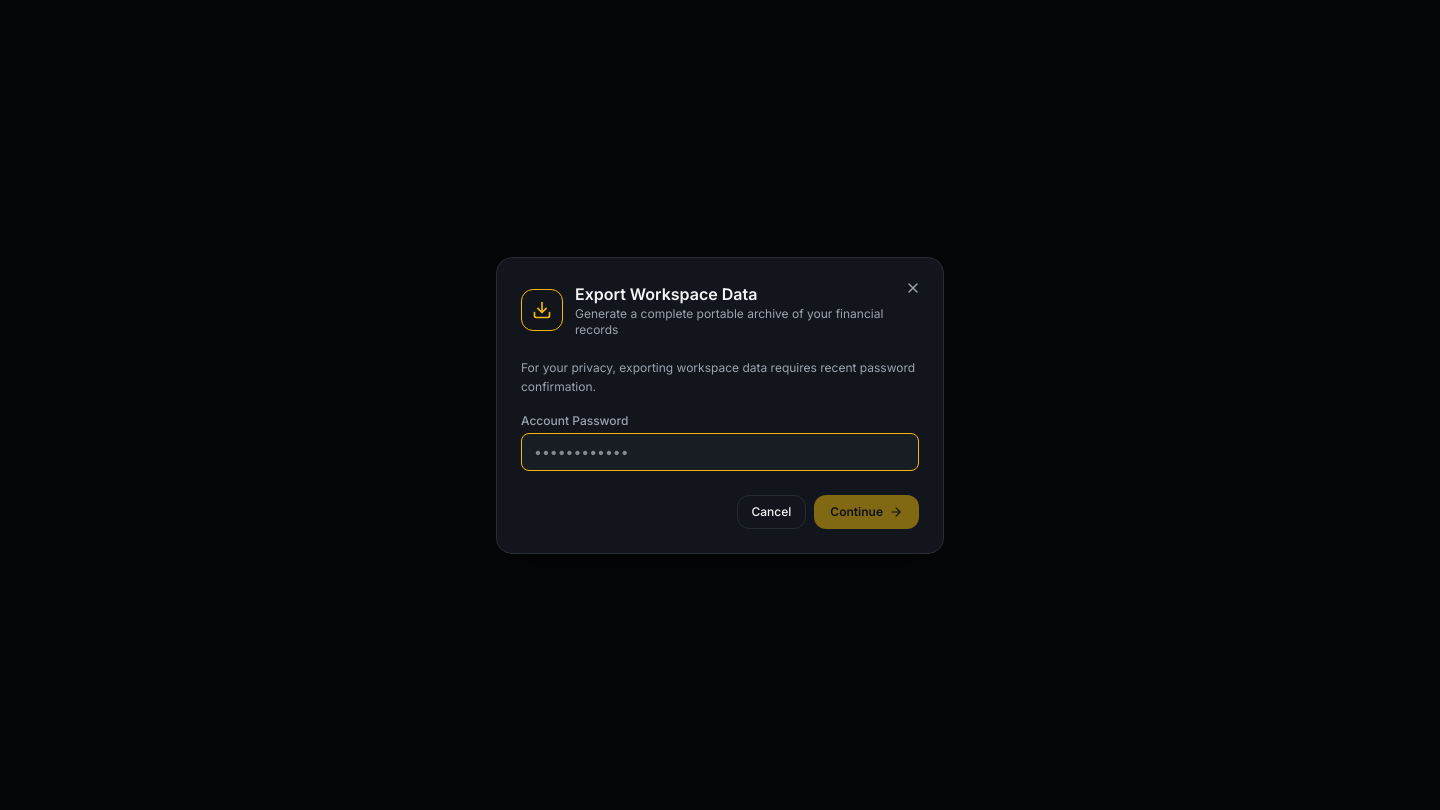
Test: DataExportDialog › handles password reauth, scope selection, and export job creation
This screenshot has width=1440, height=810.
Expected: the heading "Export Workspace Data" is shown, [575,284,757,304]
Step 1. Type "password123" into the password field with placeholder "••••••••••••" → (720,452), box [521,432,919,470]
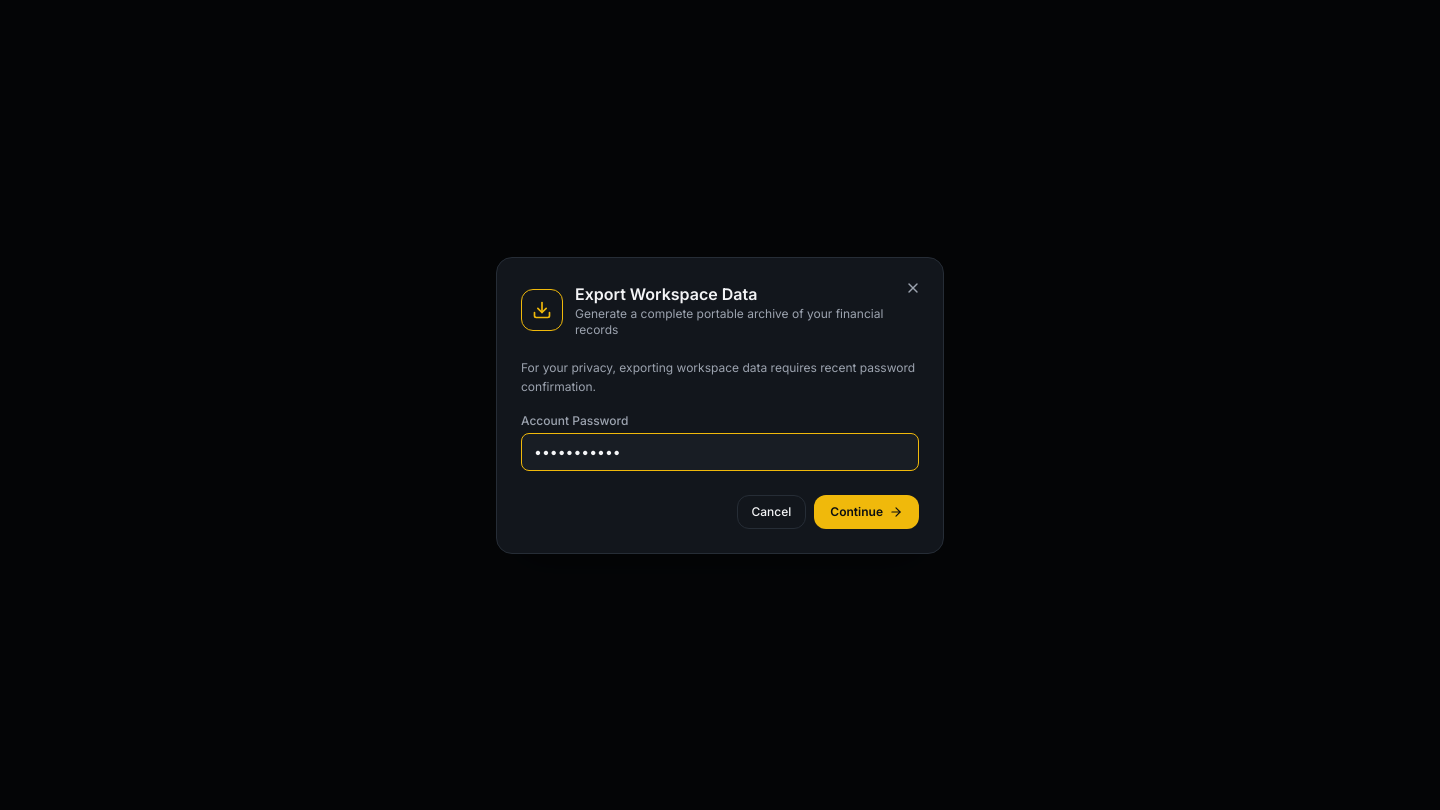
Step 2. Click the button "Continue" → (867,512), box [814,494,919,528]
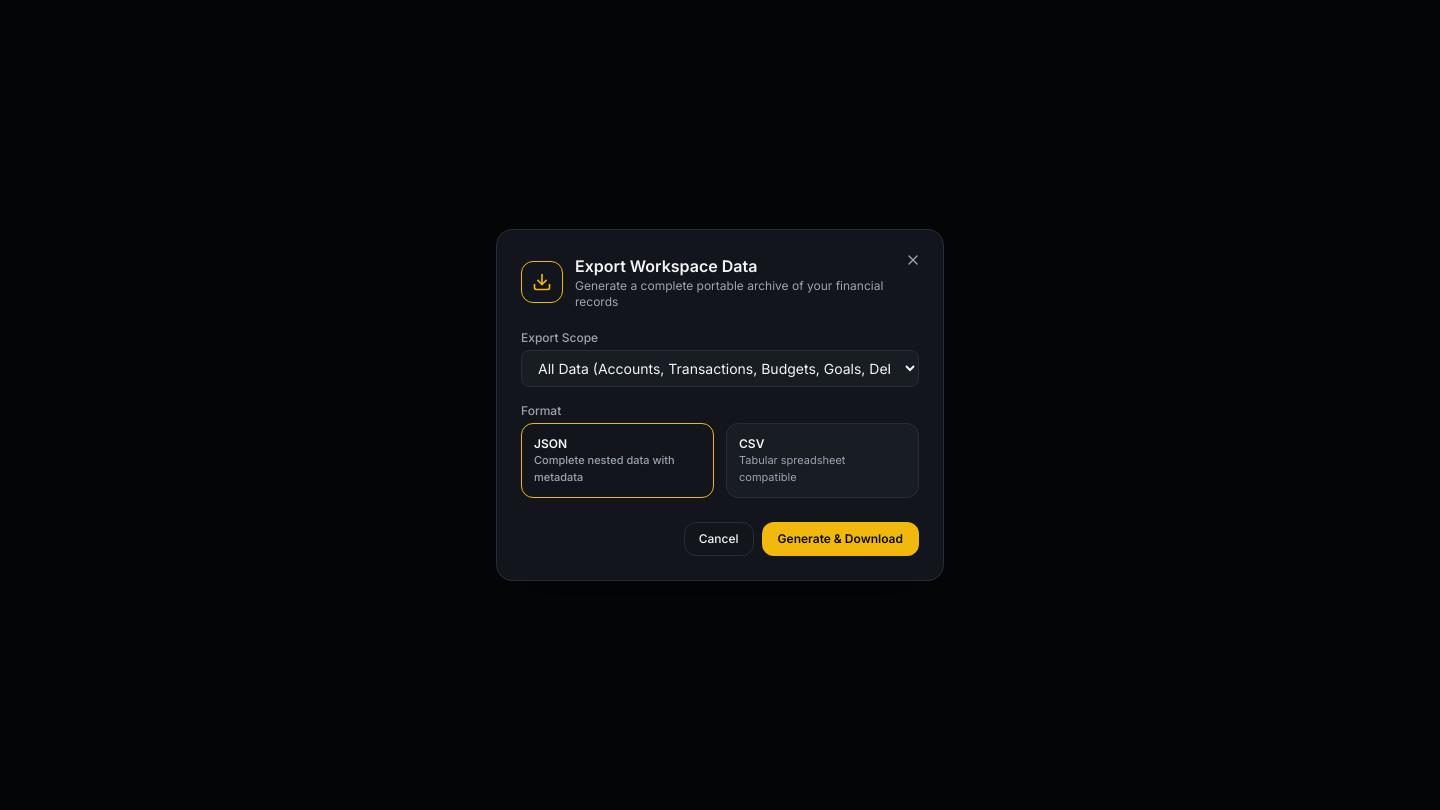
Result: the text "Export Scope" is shown at [521,330,598,345]
// Trigger export
Step 3. Click the button "Generate & Download" → (840,539), box [762,522,919,556]
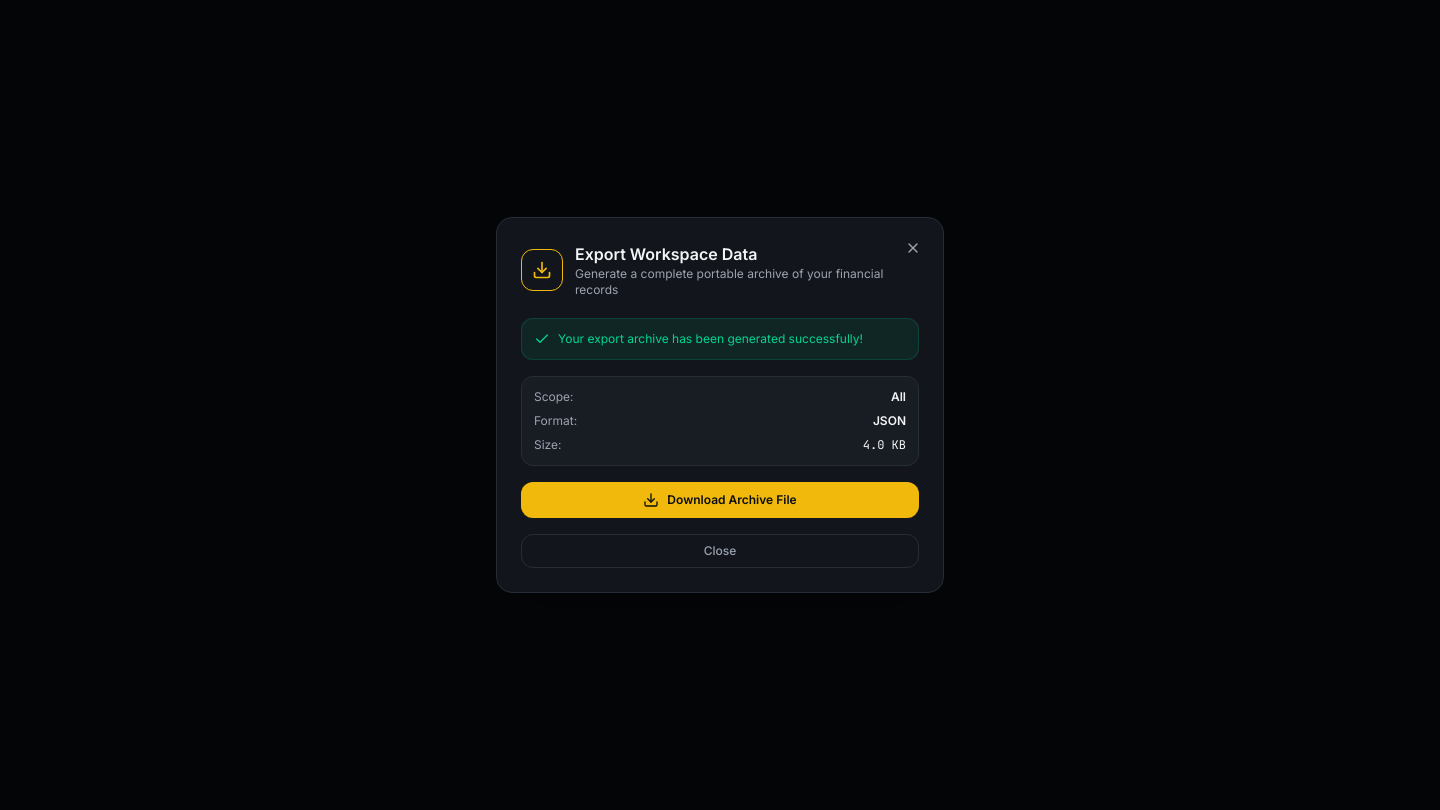
Result: the text "Your export archive has been generated successfully!" is shown at [558,331,863,347]
Result: the text "Download Archive File" is shown at [667,492,797,508]
